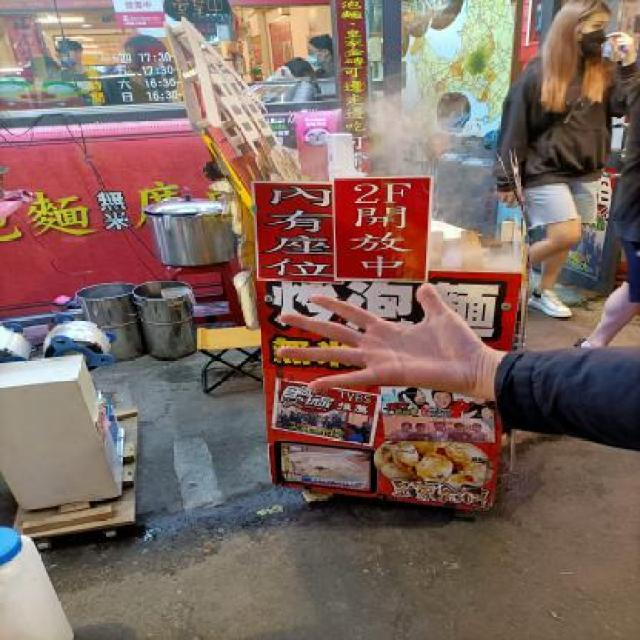bare_hand: (259, 275, 513, 420)
